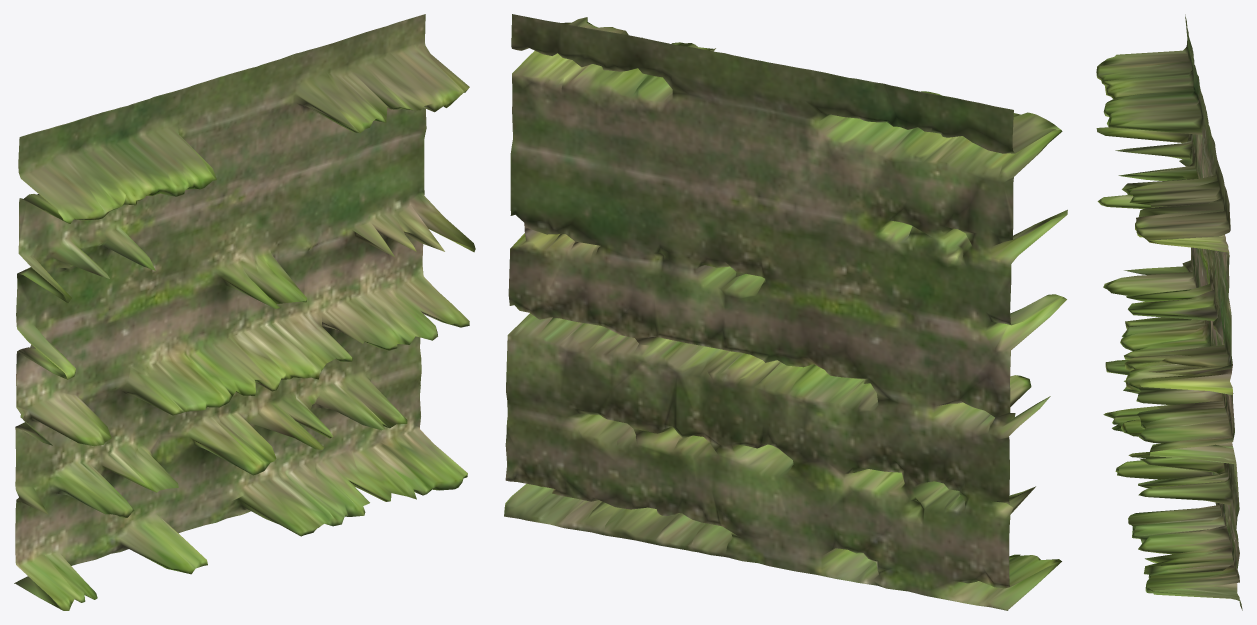
File: map_110_40.obj
3 renders of one model, left to right at view 1: azimuth 30°, elevation 25°; view 2: azimuth 150°, elevation 25°; view 3: azimuth 270°, elevation 25°, orthographic. The views are drawn at different scales.
Visible parts, largest first — view 1: map_110_40.obj; view 2: map_110_40.obj; view 3: map_110_40.obj.
Part boxes in pixels (box(x1,y1,x2,y2)): map_110_40.obj: box(14, 14, 475, 610); map_110_40.obj: box(504, 14, 1067, 610); map_110_40.obj: box(1096, 14, 1242, 610).
Size of the model in its own units: 10 by 10 by 3.25.
1 material, 1 textured.
